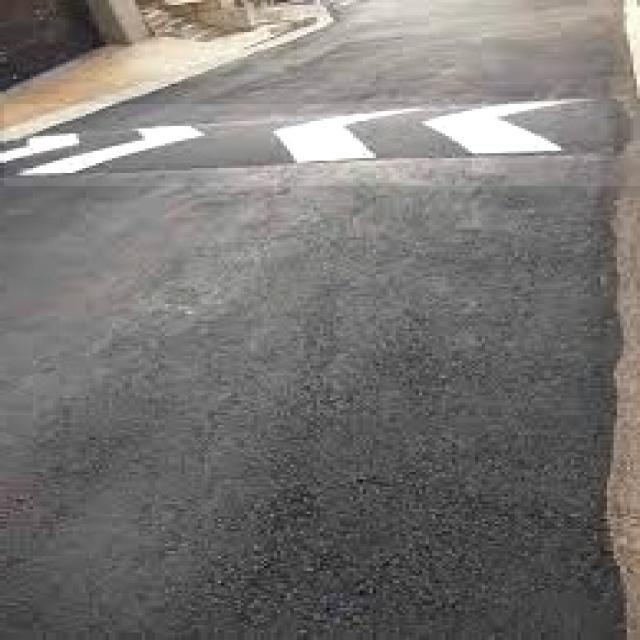speed-bump: (4, 104, 640, 186)
